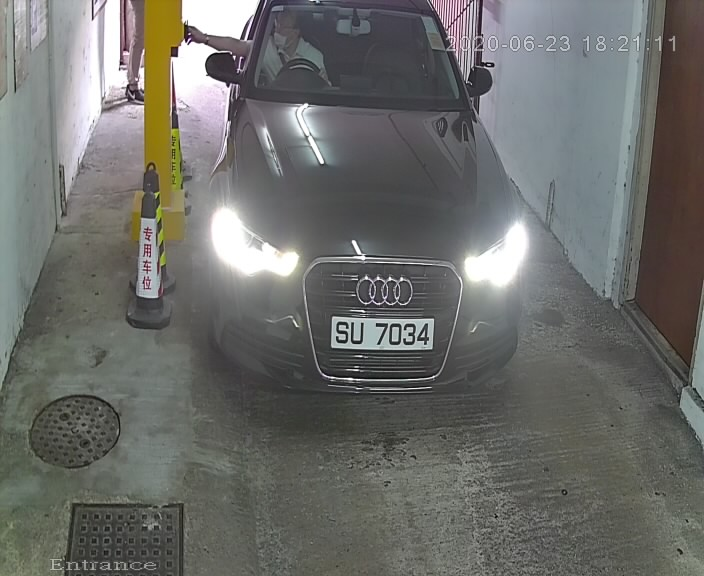privatecar: (201, 1, 531, 415)
